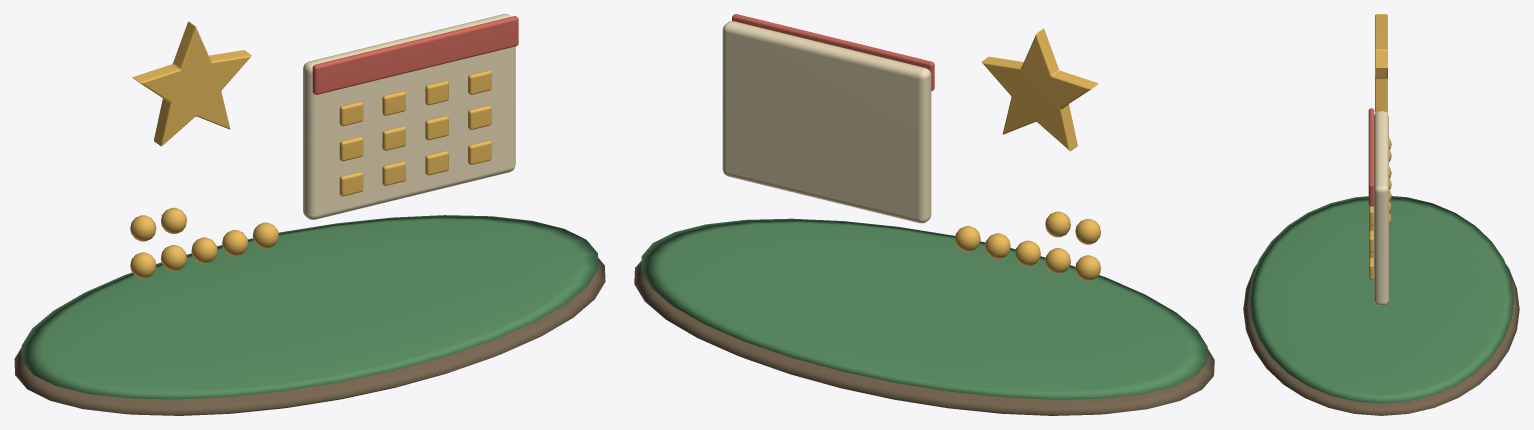
The model's file is star-week.glb.
3 renders of one model, left to right at view 1: azimuth 30°, elevation 25°; view 2: azimuth 150°, elevation 25°; view 3: azimuth 270°, elevation 25°, orthographic. The views are drawn at different scales.
Parts seen in each view (by area): view 1: star-week_surface_01, star-week_surface_03, star-week_surface_02, star-week_surface_00, star-week_surface_04; view 2: star-week_surface_01, star-week_surface_03, star-week_surface_00, star-week_surface_02, star-week_surface_04; view 3: star-week_surface_01, star-week_surface_00, star-week_surface_03, star-week_surface_02, star-week_surface_04.
Boxes of the visible parts, x1,y1,x2,y2 form: star-week_surface_01: (21, 215, 598, 399); star-week_surface_03: (303, 14, 515, 219); star-week_surface_02: (130, 21, 491, 278); star-week_surface_00: (14, 258, 605, 415); star-week_surface_04: (312, 16, 518, 94); star-week_surface_01: (641, 218, 1207, 399); star-week_surface_03: (722, 21, 931, 223); star-week_surface_00: (634, 260, 1214, 415); star-week_surface_02: (955, 28, 1100, 281); star-week_surface_04: (732, 14, 934, 91); star-week_surface_01: (1249, 196, 1513, 403); star-week_surface_00: (1243, 264, 1519, 415); star-week_surface_03: (1374, 111, 1388, 305); star-week_surface_02: (1369, 14, 1391, 279); star-week_surface_04: (1368, 108, 1374, 206).
Bounding box in the file's own units: 4.56 × 2.63 × 2.5.
